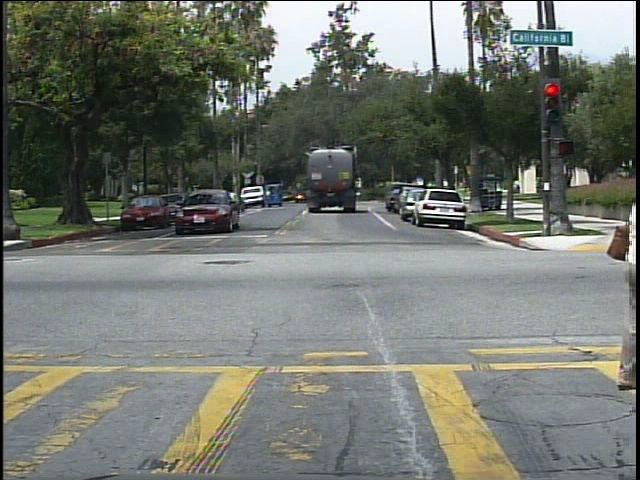person: (513, 180, 526, 199)
